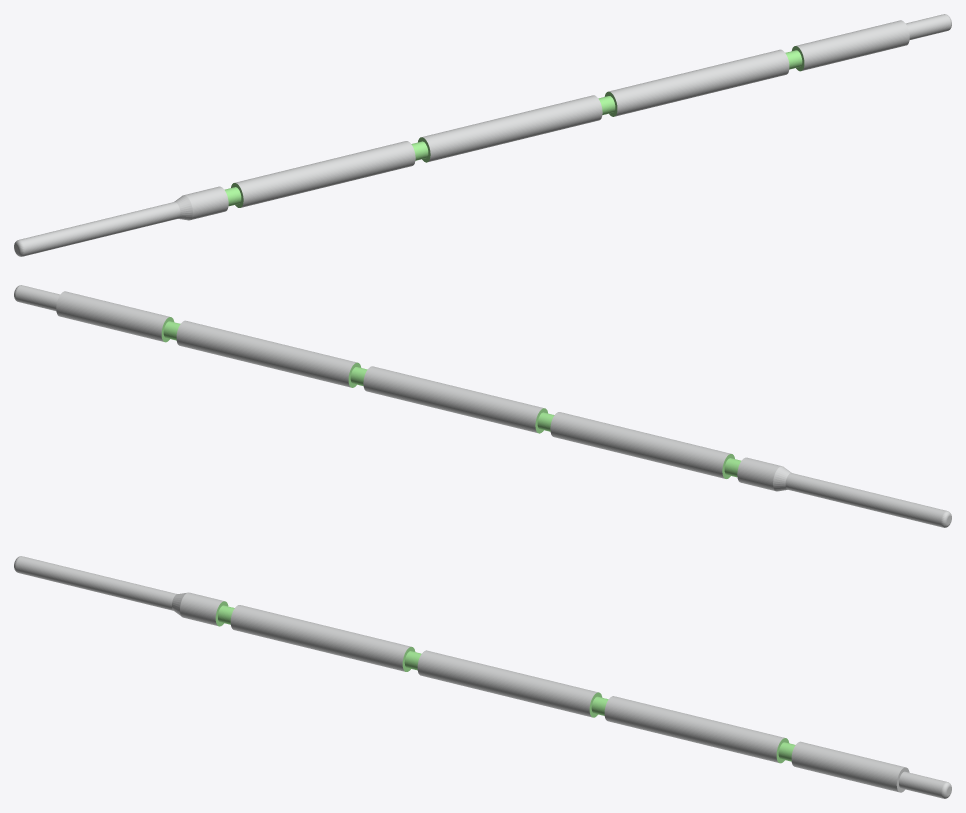
The model's file is grooved_stepped_pin_124p70.glb.
The picture shows the model from 3 angles, top to bottom: view 1: azimuth 30°, elevation 25°; view 2: azimuth 150°, elevation 25°; view 3: azimuth 330°, elevation 25°; orthographic projection.
Parts seen in each view (by area): view 1: steel_0, accent-faces_1; view 2: steel_0, accent-faces_1; view 3: steel_0, accent-faces_1.
Boxes of the visible parts, x1=… form: steel_0: x1=14, y1=14, x2=951, y2=256; accent-faces_1: x1=224, y1=46, x2=804, y2=207; steel_0: x1=14, y1=285, x2=951, y2=527; accent-faces_1: x1=161, y1=317, x2=741, y2=478; steel_0: x1=14, y1=556, x2=951, y2=798; accent-faces_1: x1=215, y1=601, x2=795, y2=763.
Size of the model in its own units: 125 by 3 by 3.
